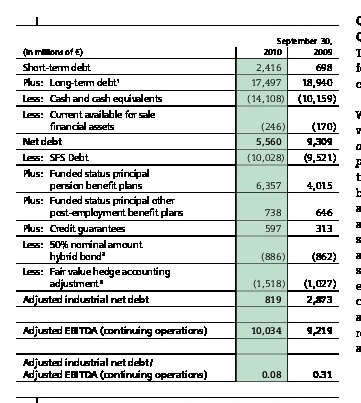table: (0, 0, 361, 403)
